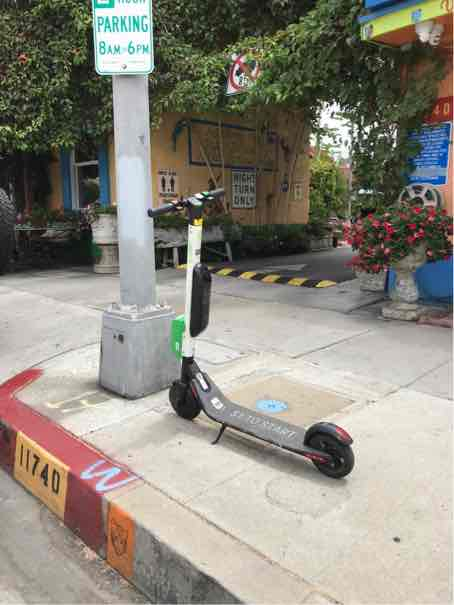scooter: (148, 177, 357, 492)
